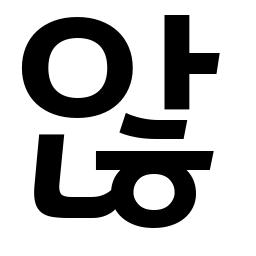Gaji: (152, 42, 208, 90)
